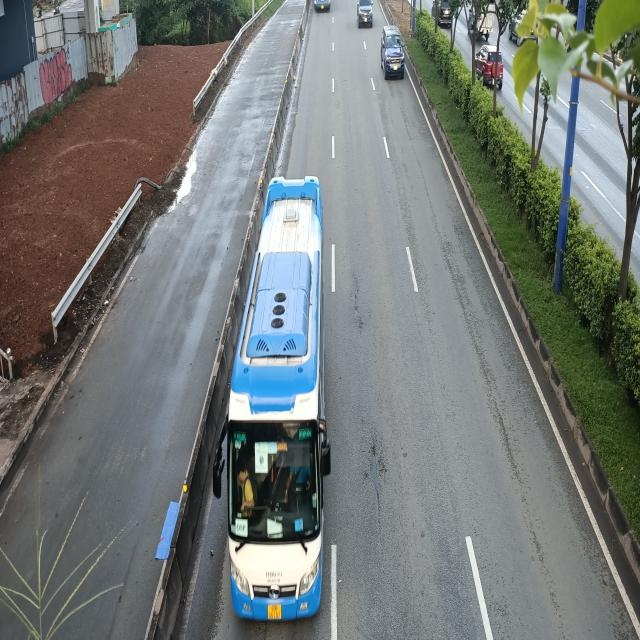car: (380, 25, 406, 78)
coach: (215, 176, 332, 620)
